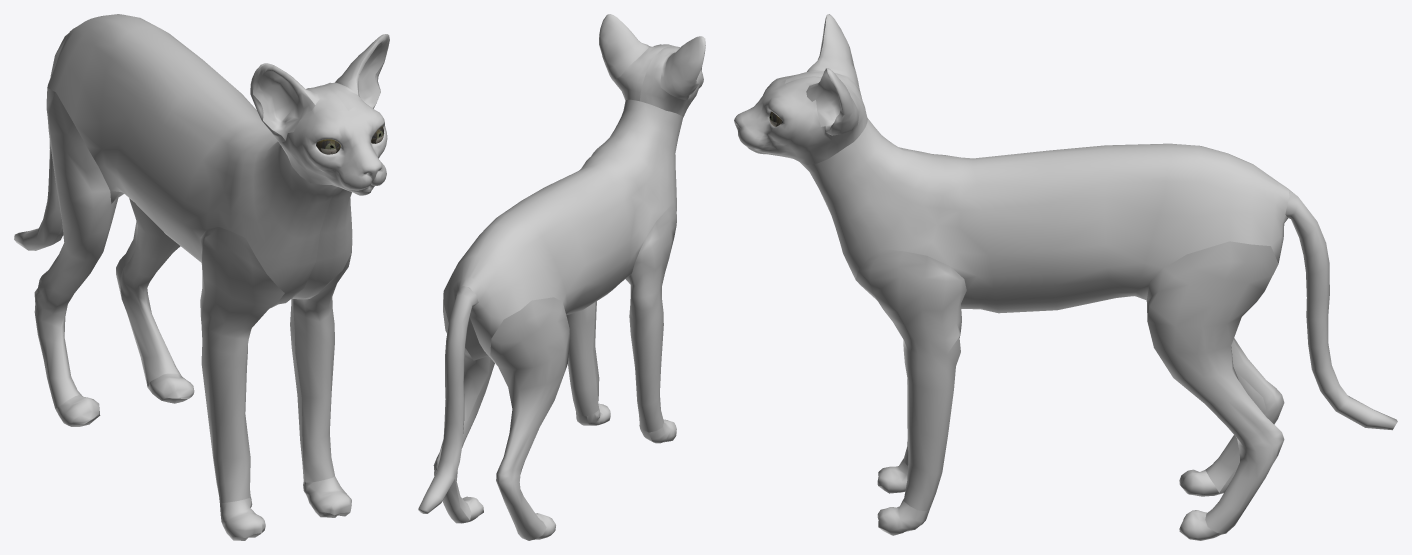
Rendered from binguser.dae.
3 renders of one model, left to right at view 1: azimuth 30°, elevation 25°; view 2: azimuth 150°, elevation 25°; view 3: azimuth 270°, elevation 25°, orthographic. The views are drawn at different scales.
Visible parts, largest first — view 1: Cat_L_UV.001, Cat_L_UV.003; view 2: Cat_L_UV.001; view 3: Cat_L_UV.001.
Part boxes in pixels (x1,y1,x2,y2): Cat_L_UV.001: (14,14,389,540); Cat_L_UV.003: (316,126,384,154); Cat_L_UV.001: (418,14,705,540); Cat_L_UV.001: (734,14,1397,540).
Bounding box in the file's own units: 0.6256 × 2.84 × 2.23.
